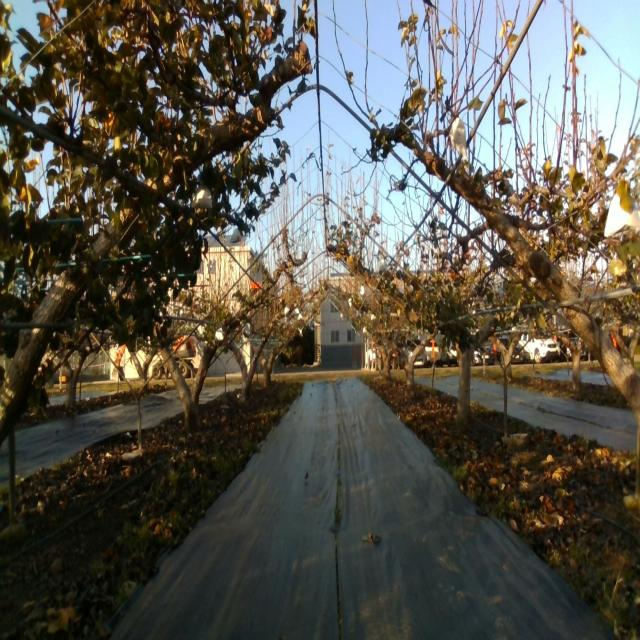pearbags: (604, 192, 640, 240), (191, 178, 213, 212), (450, 117, 467, 158)
